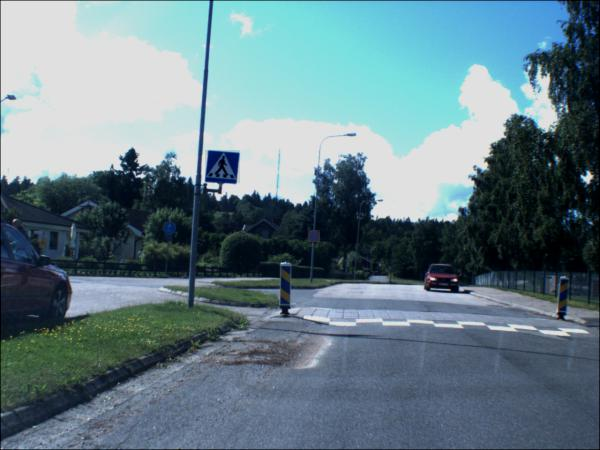NO_PARKING: (308, 231, 321, 244)
PEDESTRIAN_CROSSING: (205, 151, 241, 185)
